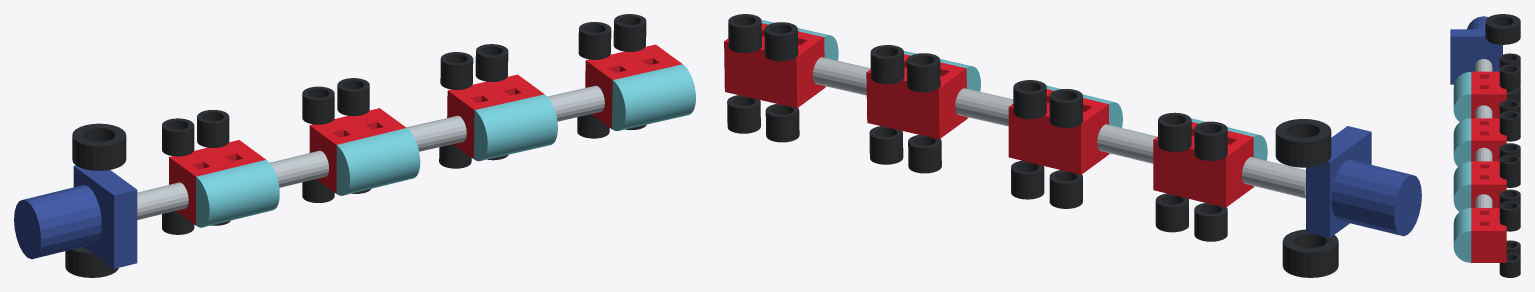
File: tinker.obj
3 views of the same model, side by side, from view 1: azimuth 30°, elevation 25°; view 2: azimuth 150°, elevation 25°; view 3: azimuth 270°, elevation 25° (orthographic). The views are drawn at different scales.
Parts seen in each view (by area): view 1: group_0_7720667, group_0_2829873, group_0_15277357, group_0_3888547, group_0_12568524; view 2: group_0_2829873, group_0_15277357, group_0_3888547, group_0_12568524, group_0_7720667; view 3: group_0_15277357, group_0_2829873, group_0_7720667, group_0_3888547, group_0_12568524.
Boxes of the visible parts, <box> form: group_0_7720667: <box>196,64,695,227</box>; group_0_2829873: <box>65,14,646,277</box>; group_0_15277357: <box>169,44,682,225</box>; group_0_3888547: <box>14,165,137,268</box>; group_0_12568524: <box>137,85,604,219</box>; group_0_2829873: <box>727,14,1338,277</box>; group_0_15277357: <box>724,23,1253,207</box>; group_0_3888547: <box>1306,126,1421,237</box>; group_0_12568524: <box>812,57,1305,198</box>; group_0_7720667: <box>761,20,1267,186</box>; group_0_15277357: <box>1471,71,1506,262</box>; group_0_2829873: <box>1485,14,1520,277</box>; group_0_7720667: <box>1453,72,1471,262</box>; group_0_3888547: <box>1450,16,1502,84</box>; group_0_12568524: <box>1475,59,1492,207</box>.
Bounding box in the file's own units: 276 × 53 × 40.
